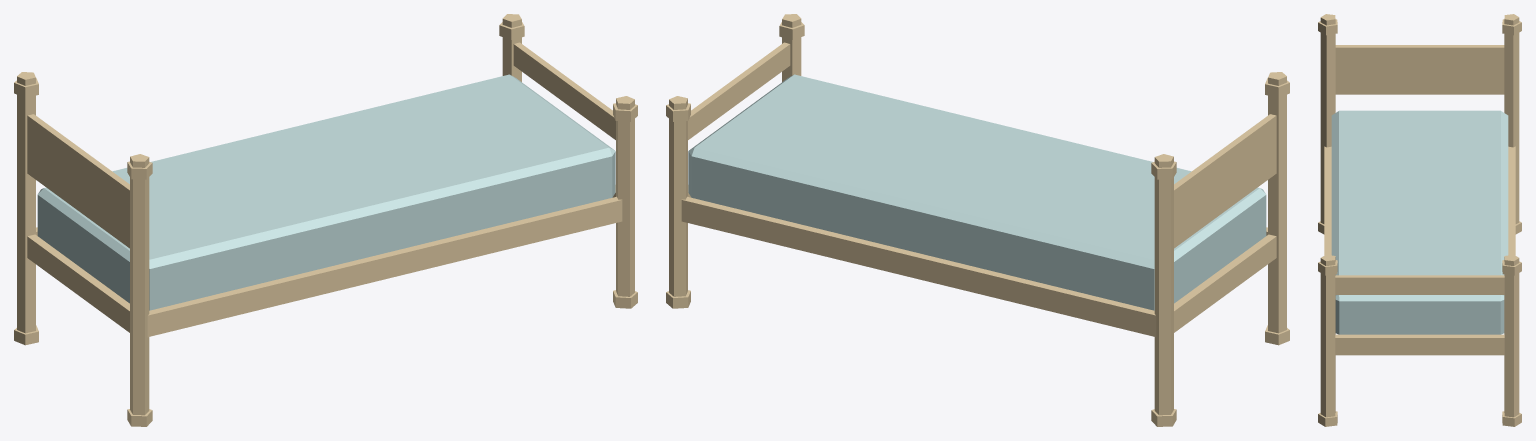
Rendered from bed1.fbx.
3 views of the same model, side by side, from view 1: azimuth 30°, elevation 25°; view 2: azimuth 150°, elevation 25°; view 3: azimuth 270°, elevation 25° (orthographic). The views are drawn at different scales.
Visible parts, largest first — view 1: polySurface1; view 2: polySurface1; view 3: polySurface1.
Part boxes in pixels (x1=…): polySurface1: x1=14, y1=14, x2=637, y2=426; polySurface1: x1=666, y1=14, x2=1289, y2=426; polySurface1: x1=1318, y1=14, x2=1521, y2=426.
Bounding box in the file's own units: 36 × 17.94 × 15.49.
